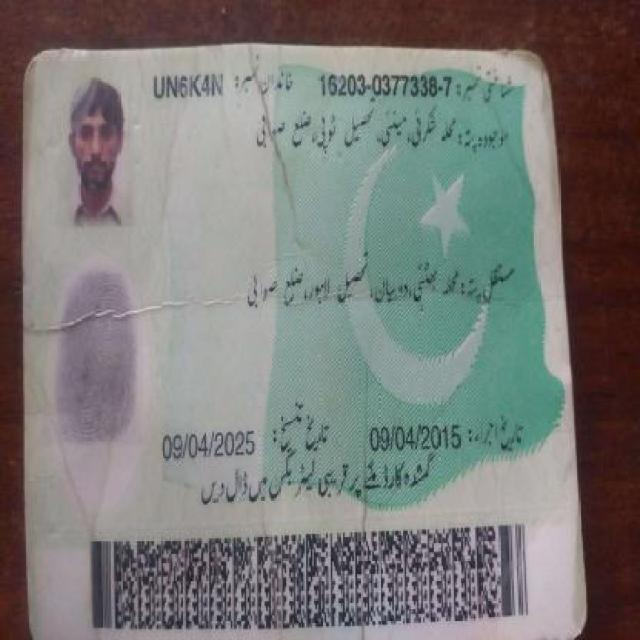Back: (19, 40, 588, 631)
